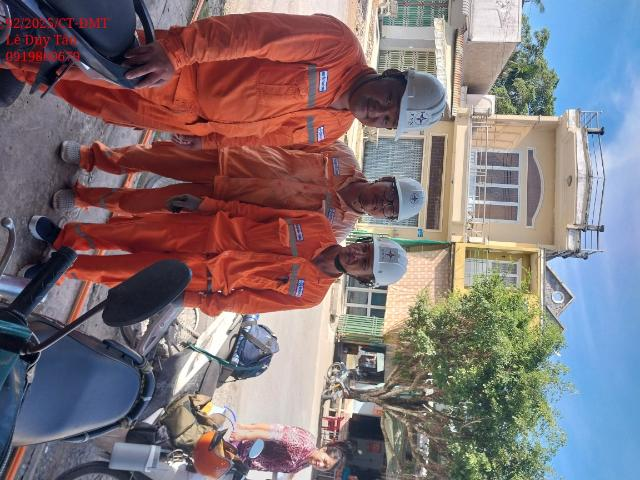helmet: (391, 72, 448, 141), (361, 231, 416, 294), (388, 166, 437, 231)
shoes: (26, 201, 66, 250), (58, 131, 96, 174), (48, 179, 84, 220), (12, 256, 51, 290)
